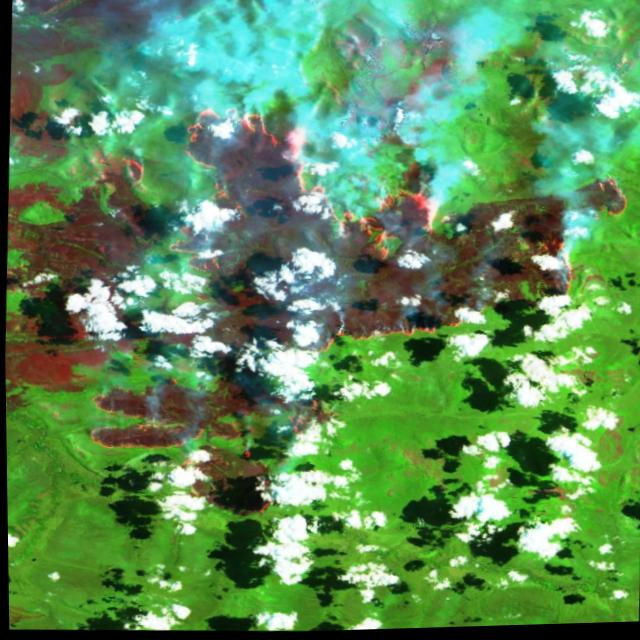fire: (1, 88, 640, 535)
